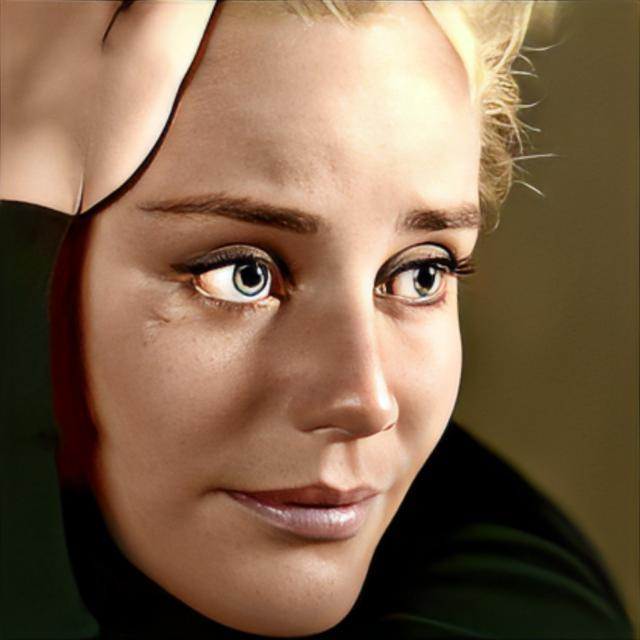sad: (83, 2, 486, 620)
